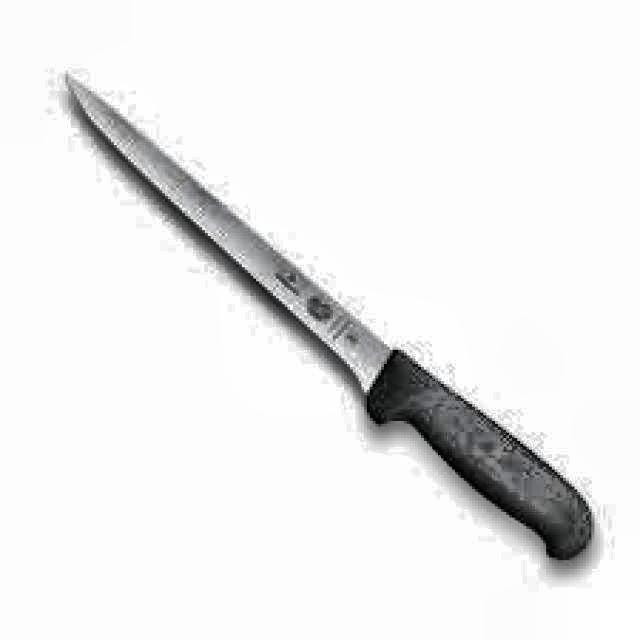knife: (57, 72, 598, 572)
